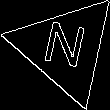N_S: (39, 19, 91, 77)
